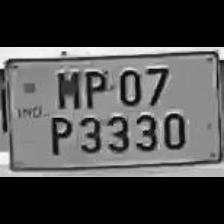0: (112, 65, 142, 107), (159, 108, 189, 150)
3: (130, 111, 159, 153), (74, 113, 102, 155), (104, 110, 130, 153)
7: (141, 64, 170, 106)
M: (52, 66, 82, 110)
P: (79, 66, 109, 108), (46, 112, 74, 156)
